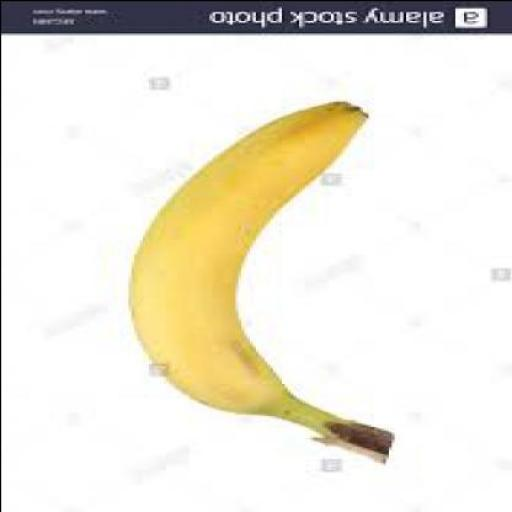biodegradable: (130, 102, 396, 465)
